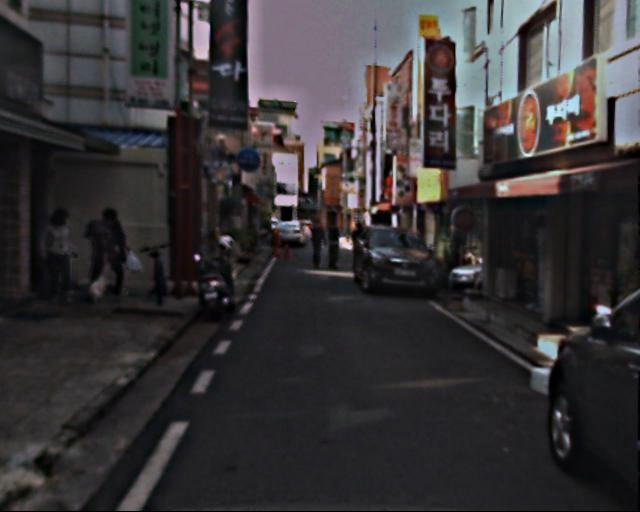person: (41, 201, 95, 308), (93, 206, 138, 302), (306, 218, 328, 271), (326, 223, 347, 273), (349, 221, 369, 270)
